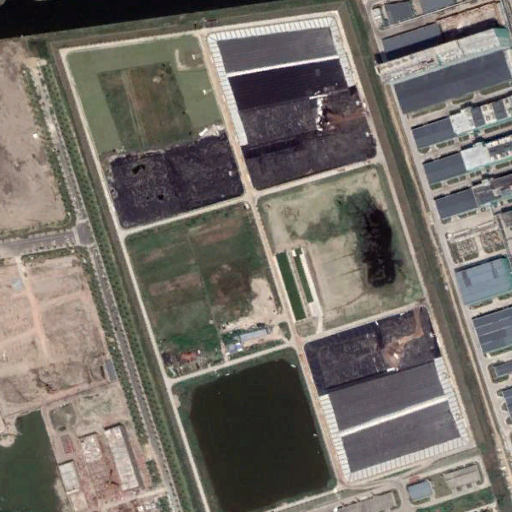lf: (208, 28, 378, 192), (302, 306, 460, 474), (100, 120, 247, 229)
